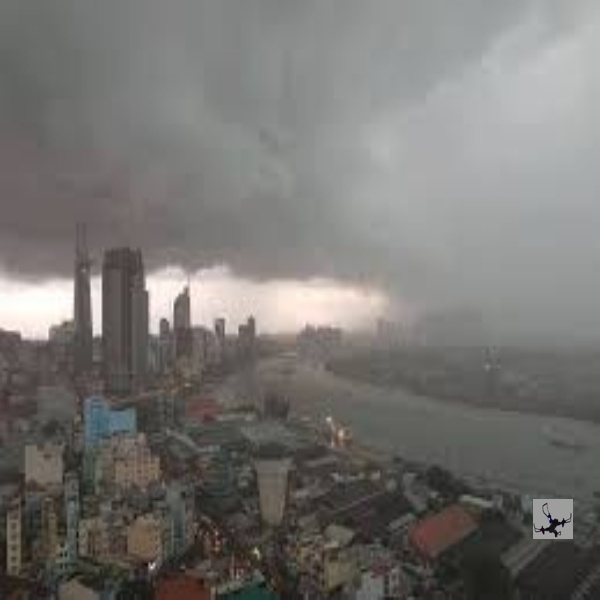drone: (536, 497, 572, 540)
